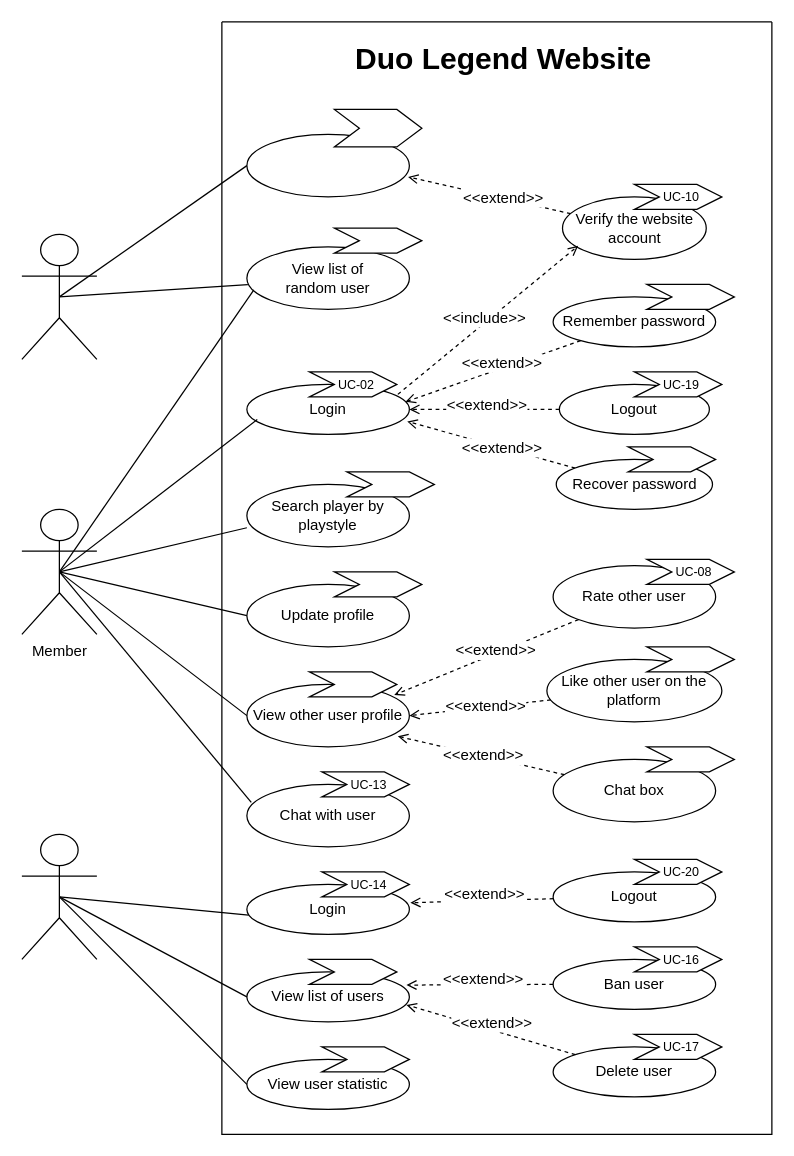
This 794x1156 diagram has some shape labels left out. The centre of each missing label's shape, as x and y in pixels:
"Admin" belongs at point (59, 896).
"Create account" belongs at point (327, 165).
"UC-01" belongs at point (377, 127).
"UC-03" belongs at point (377, 240).
"UC-04" belongs at point (352, 684).
"UC-05" belongs at point (390, 484).
"UC-06" belongs at point (690, 296).
"UC-07" belongs at point (377, 584).
"UC-09" belongs at point (671, 459).
"UC-11" belongs at point (690, 659).
"UC-12" belongs at point (690, 759).
"UC-15" belongs at point (352, 971).
"UC-18" belongs at point (365, 1059).
"Visitor" belongs at point (59, 296).
